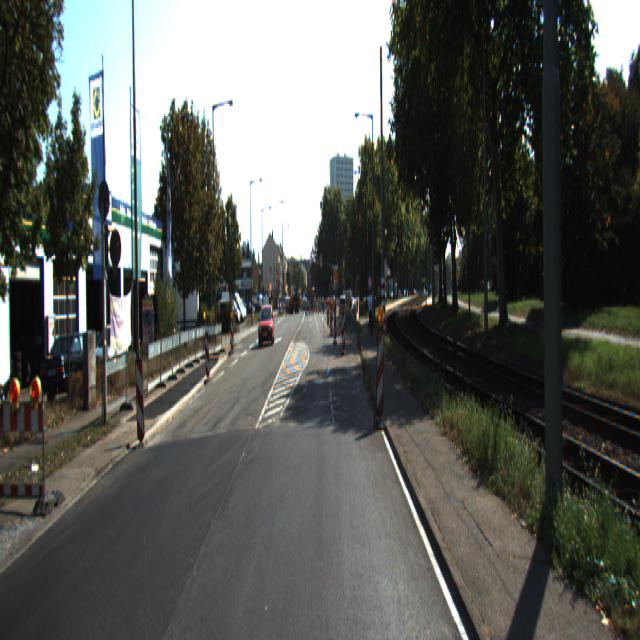Car: (258, 305, 276, 347)
